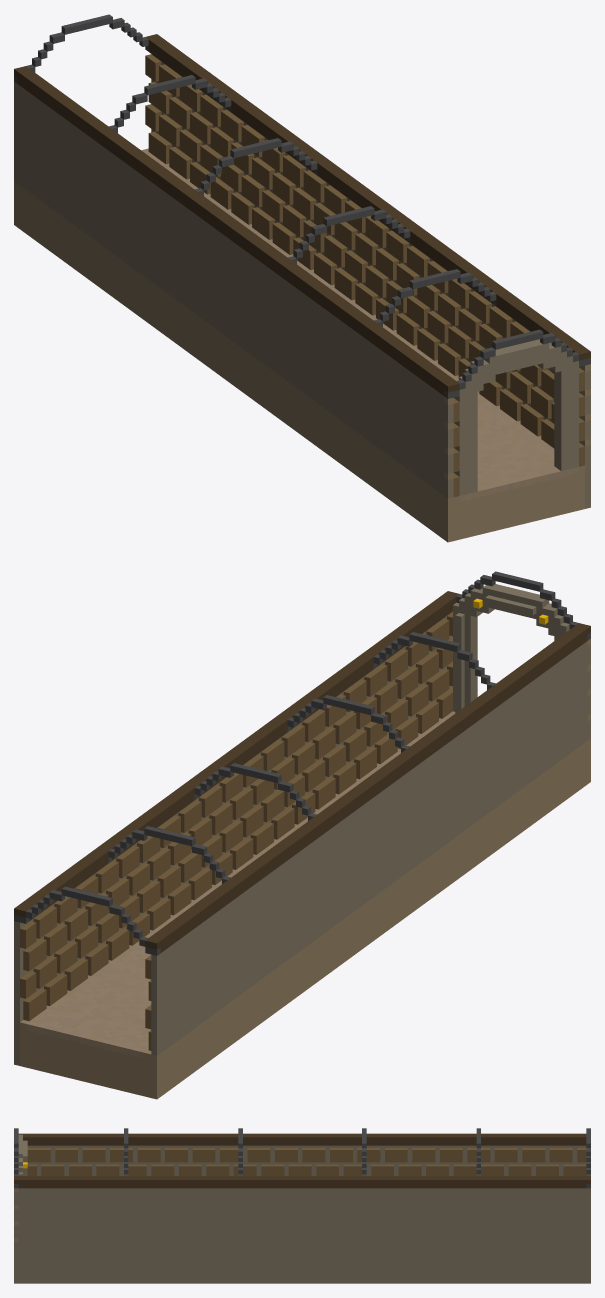
The model's file is Small Room1-0.obj.
3 renders of one model, top to bottom at view 1: azimuth 30°, elevation 25°; view 2: azimuth 150°, elevation 25°; view 3: azimuth 270°, elevation 25°, orthographic. The views are drawn at different scales.
Size of the model in its own units: 2.4 by 3 by 12.6.
